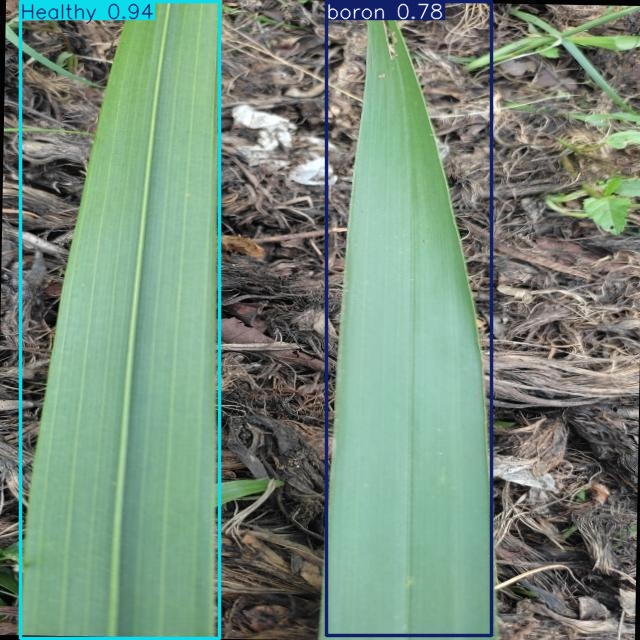Healthy: (21, 1, 219, 638)
nitrogen: (327, 1, 491, 635)
